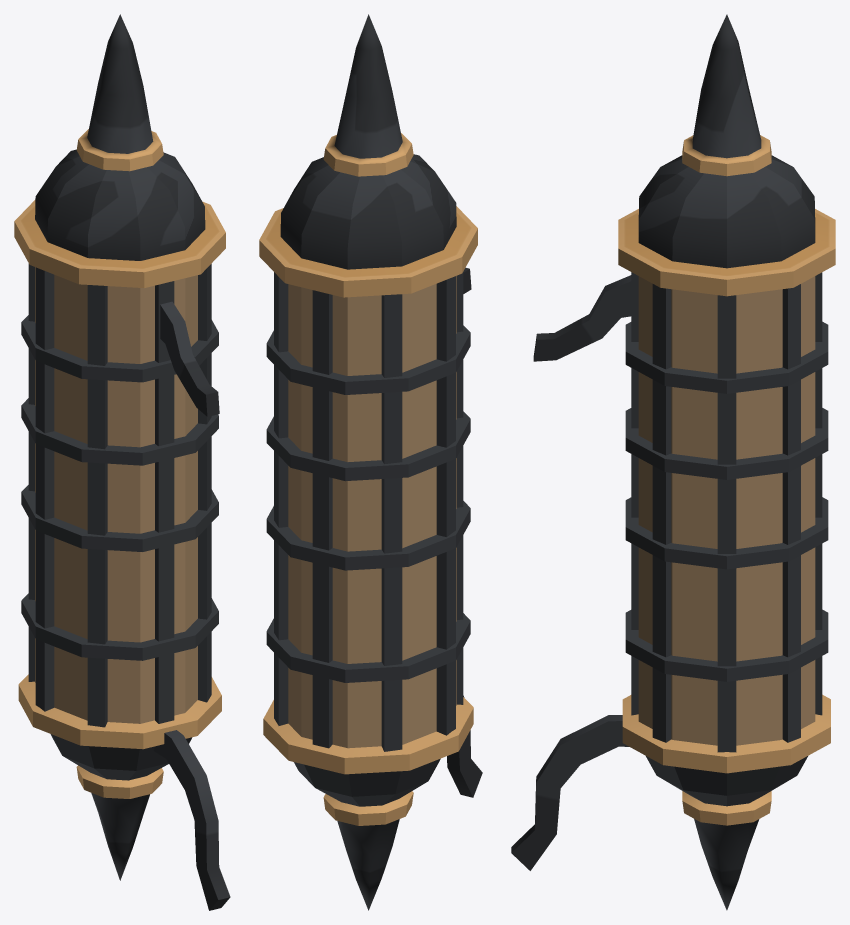
The model's file is SM_Bld_Ship_Light_02.fbx.
3 views of the same model, side by side, from view 1: azimuth 30°, elevation 25°; view 2: azimuth 150°, elevation 25°; view 3: azimuth 270°, elevation 25° (orthographic). The views are drawn at different scales.
Visible parts, largest first — view 1: SM_Bld_Ship_Light_02; view 2: SM_Bld_Ship_Light_02; view 3: SM_Bld_Ship_Light_02.
Boxes of the visible parts, x1=… form: SM_Bld_Ship_Light_02: x1=14, y1=14, x2=230, y2=910; SM_Bld_Ship_Light_02: x1=259, y1=14, x2=482, y2=910; SM_Bld_Ship_Light_02: x1=511, y1=14, x2=835, y2=910.
Bounding box in the file's own units: 116 × 530 × 174.
